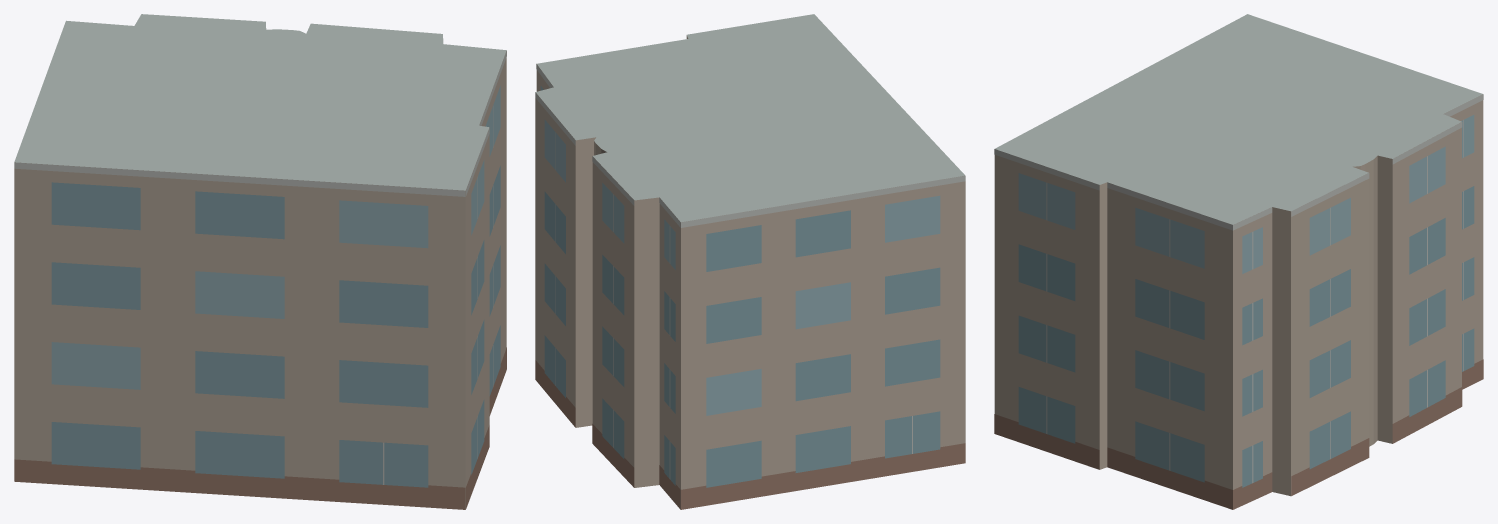
File: survey-upis-32662235.glb
3 views of the same model, side by side, from view 1: azimuth 30°, elevation 25°; view 2: azimuth 150°, elevation 25°; view 3: azimuth 270°, elevation 25° (orthographic). The views are drawn at different scales.
Parts seen in each view (by area): view 1: survey-upis-32662235.tmp; view 2: survey-upis-32662235.tmp; view 3: survey-upis-32662235.tmp.
Boxes of the visible parts, <box> form: survey-upis-32662235.tmp: <box>14,14,506,509</box>; survey-upis-32662235.tmp: <box>535,14,965,509</box>; survey-upis-32662235.tmp: <box>994,14,1483,509</box>.
Bounding box in the file's own units: 19.38 × 12.2 × 18.98.
